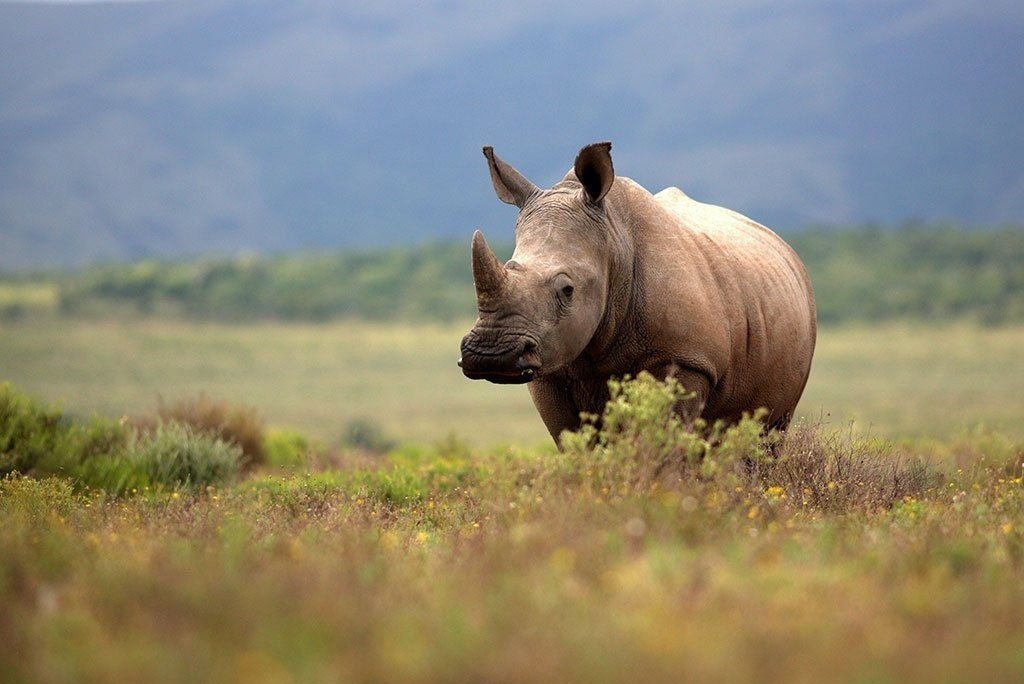rhino: (454, 133, 820, 459)
